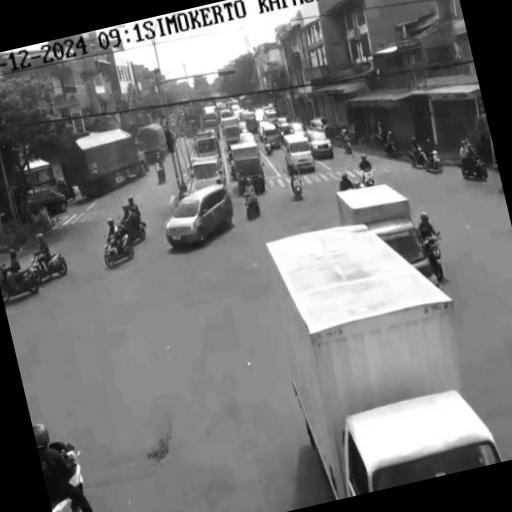car: (166, 185, 233, 248), (285, 133, 315, 171), (192, 156, 223, 191), (28, 188, 67, 215), (308, 130, 334, 159), (310, 118, 329, 136), (290, 122, 304, 133), (241, 132, 255, 143)
motorcycle: (49, 442, 83, 491), (0, 266, 39, 303), (30, 252, 67, 283), (104, 234, 134, 268), (423, 233, 444, 281), (461, 155, 488, 181), (119, 221, 146, 243), (425, 150, 442, 172), (245, 198, 260, 220), (409, 149, 427, 167), (292, 176, 303, 200), (385, 140, 399, 157), (362, 168, 374, 186), (157, 163, 166, 183), (344, 140, 352, 155), (264, 142, 272, 155)
truck: (268, 226, 500, 499), (336, 185, 438, 284), (63, 129, 148, 197), (231, 141, 265, 194), (138, 123, 167, 161), (221, 116, 241, 148), (195, 132, 220, 157), (241, 110, 258, 133), (202, 117, 219, 138), (203, 105, 218, 119)
